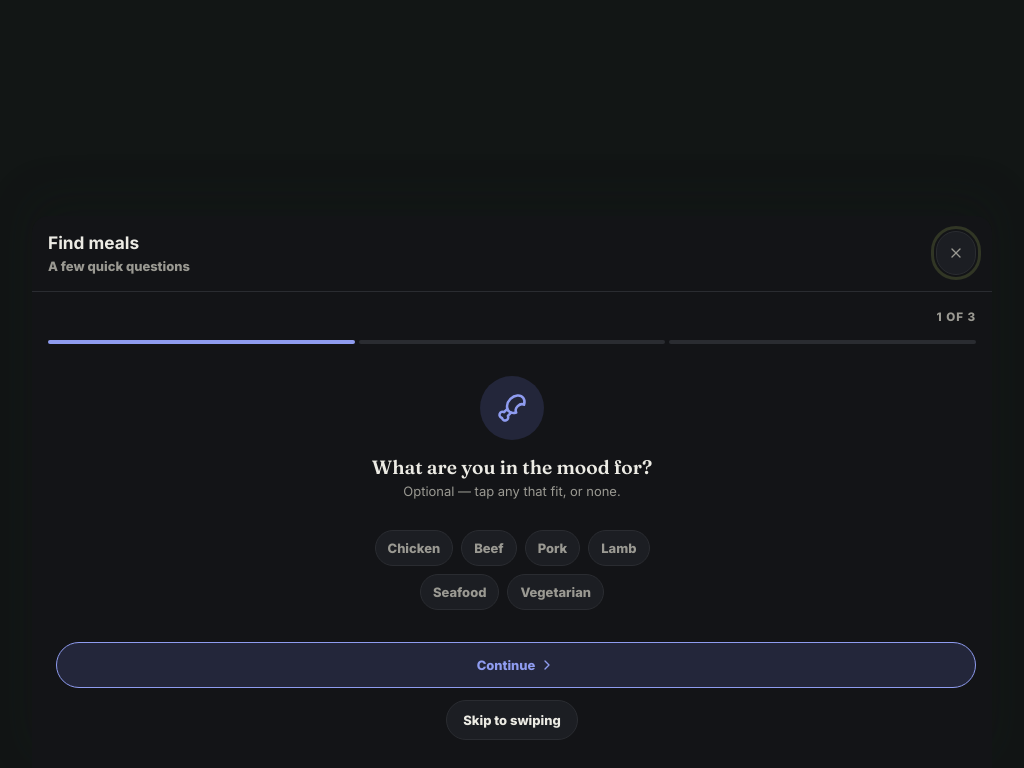
Test case: RecipeDiscoverySheet › pre-filters the deck from the guided questions
Click the button "Vegetarian": (556, 592) [507,574,604,610]
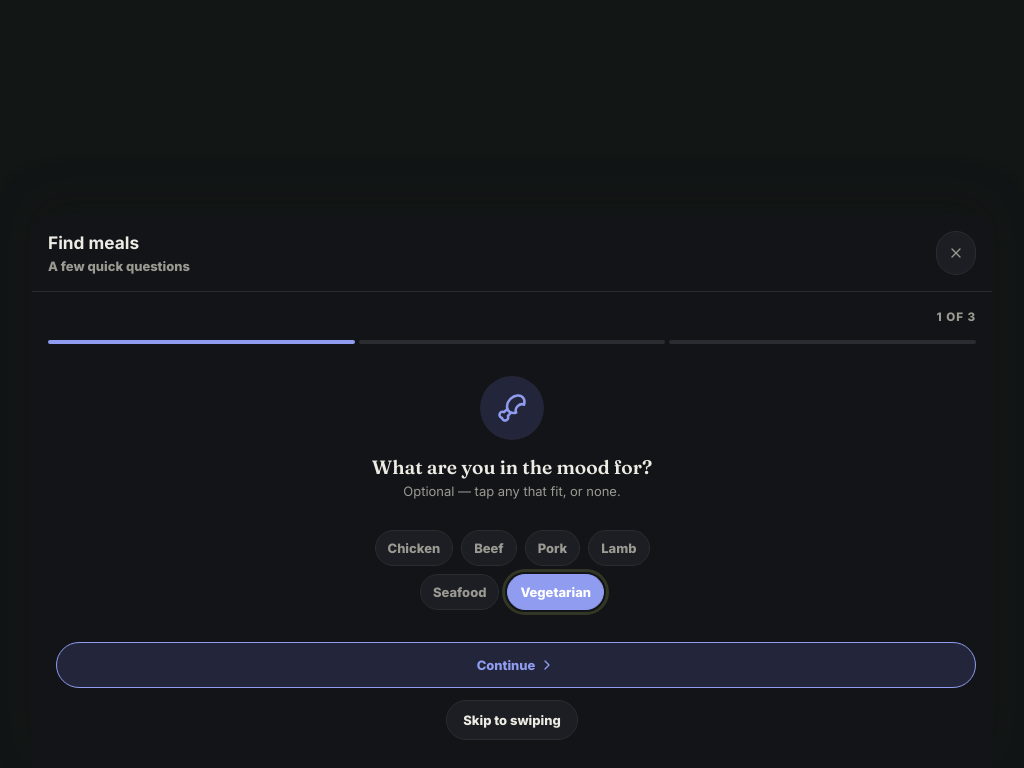
Click the button "Continue": (516, 665) [56,642,976,688]
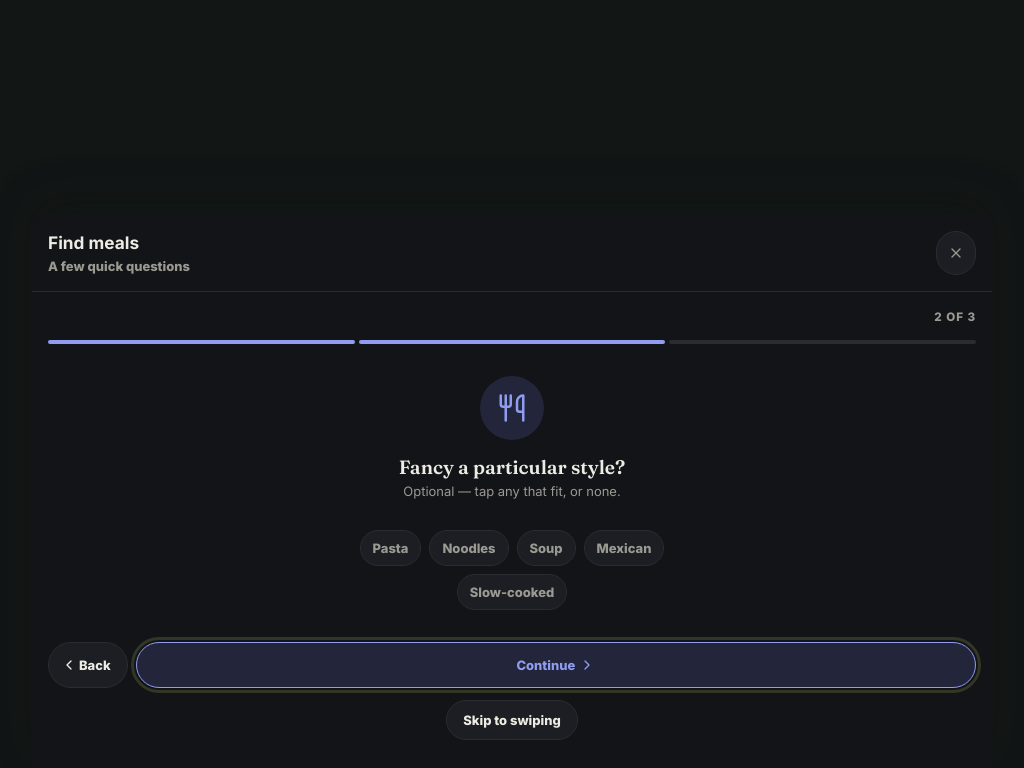
Click the button "Skip to swiping": (512, 720) [446,700,578,740]
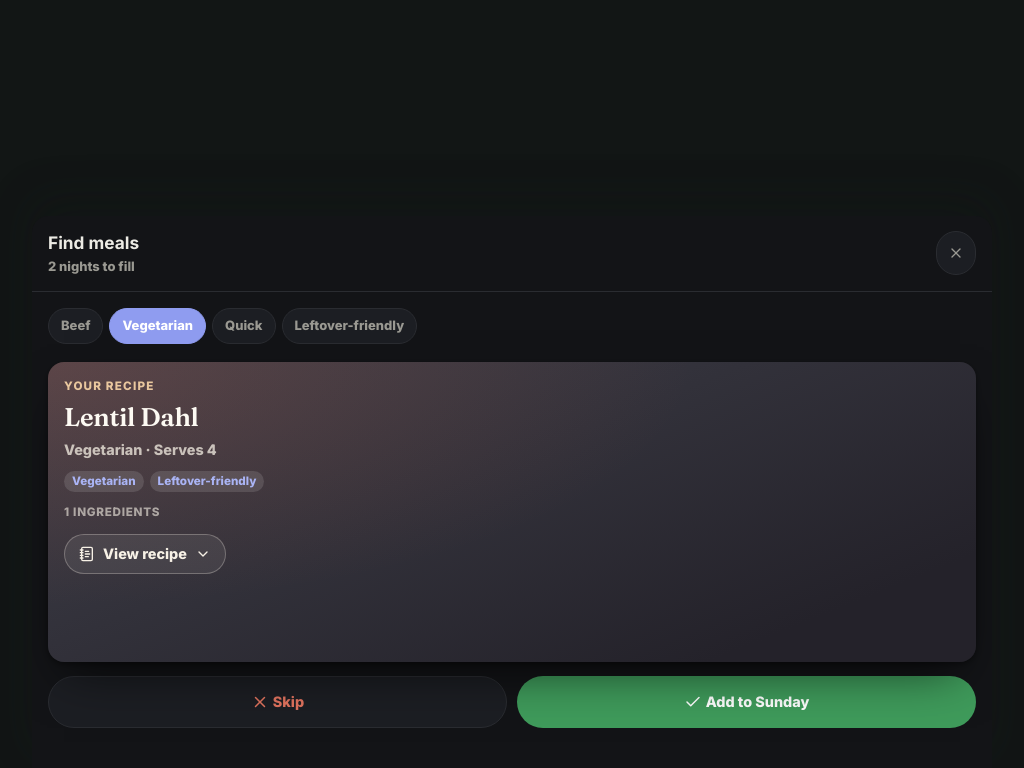
Check: the text "Lentil Dahl" is shown, box [64,400,198,432]
